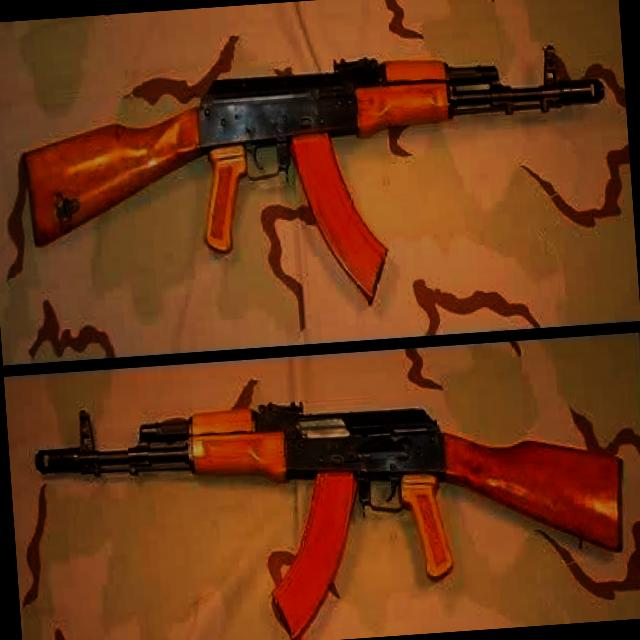ak: (27, 364, 634, 640), (15, 39, 622, 275)
